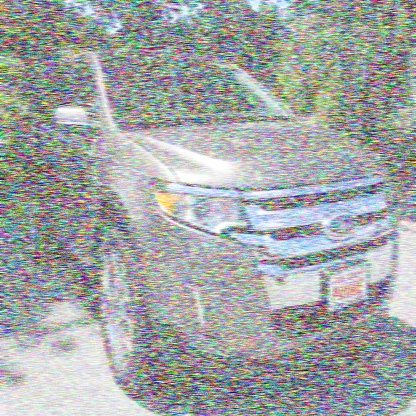Vehicle: (15, 20, 403, 390)
